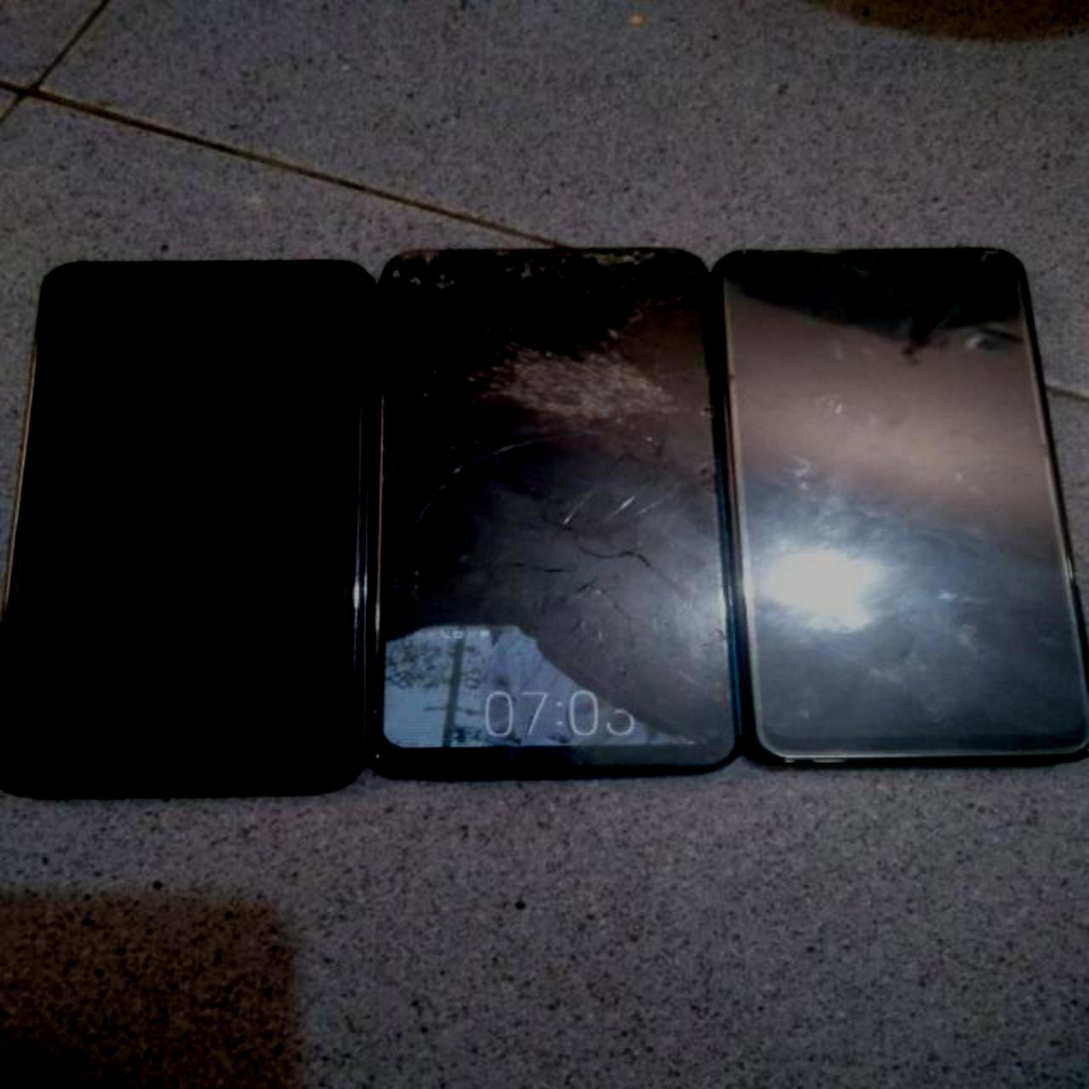phone: (26, 259, 356, 777), (384, 251, 700, 775), (739, 248, 1037, 760)
